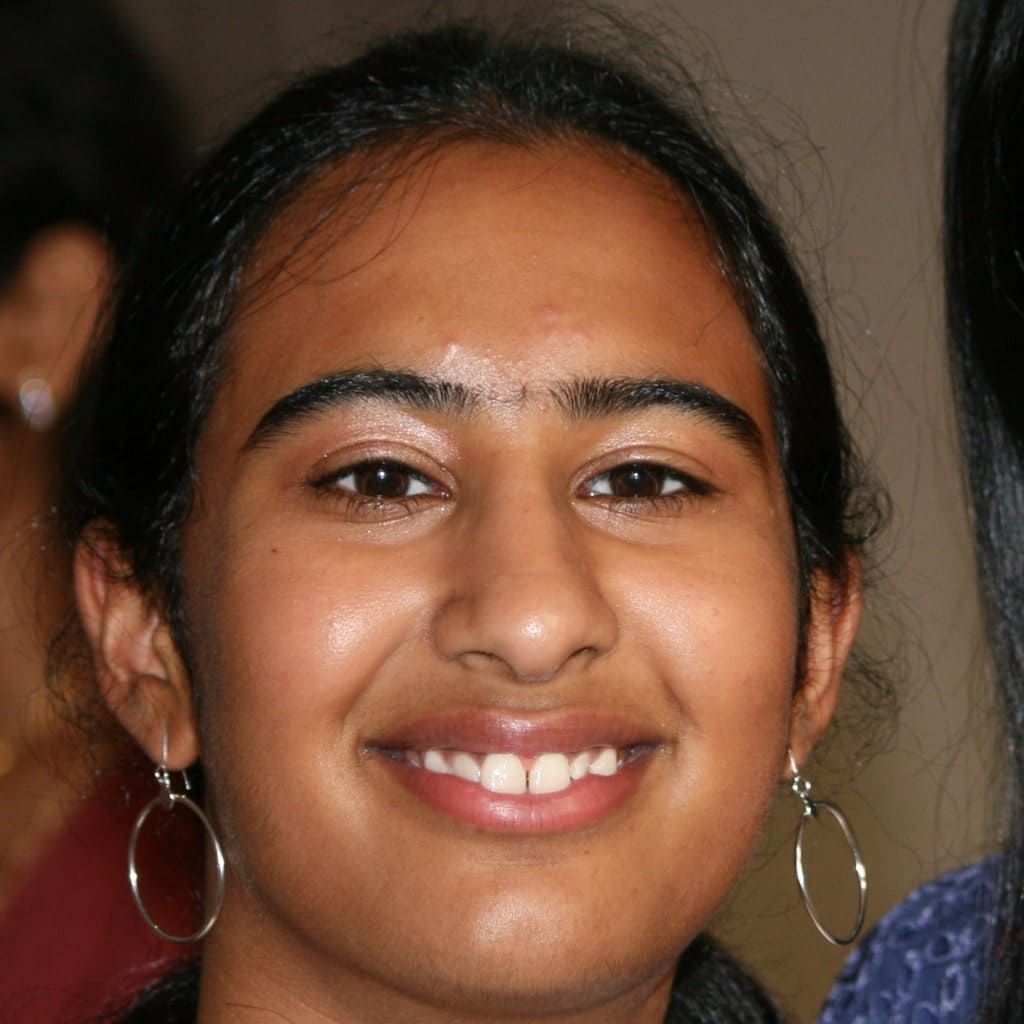without_mask: (199, 214, 781, 921)
